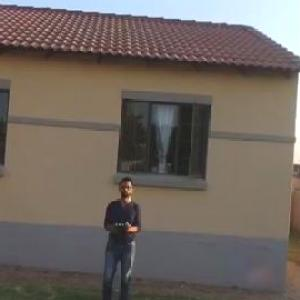follow: (96, 170, 140, 299)
